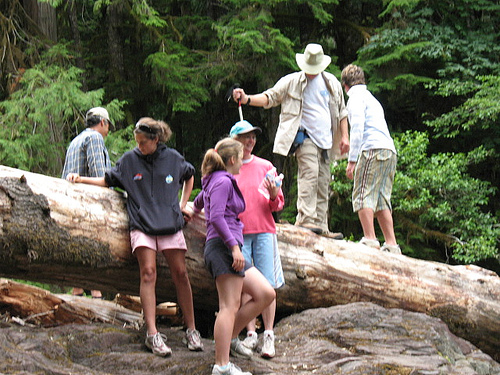without_mask: (221, 142, 245, 175), (232, 128, 257, 156), (135, 130, 160, 156), (89, 114, 113, 137)
